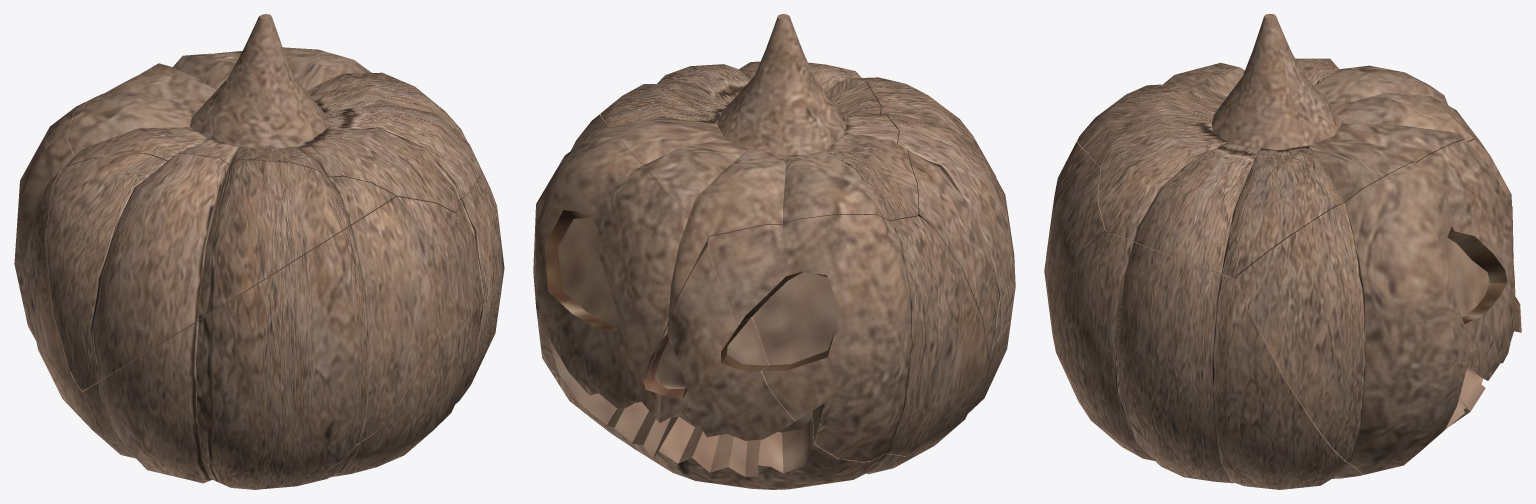
Rendered from Stone_Pumpkin_Drop.fbx.
The picture shows the model from 3 angles, left to right: view 1: azimuth 30°, elevation 25°; view 2: azimuth 150°, elevation 25°; view 3: azimuth 270°, elevation 25°; orthographic projection.
Parts seen in each view (by area): view 1: Stone_Pumpkin_2_cell, Stone_Pumpkin_2_cell.006, Stone_Pumpkin_2_cell.003, Stone_Pumpkin_2_cell.005, Stone_Pumpkin_2_cell.004; view 2: Stone_Pumpkin_2_cell.004, Stone_Pumpkin_2_cell.003, Stone_Pumpkin_2_cell.001, Stone_Pumpkin_2_cell.002, Stone_Pumpkin_2_cell.006, Stone_Pumpkin_2_cell; view 3: Stone_Pumpkin_2_cell.001, Stone_Pumpkin_2_cell.003, Stone_Pumpkin_2_cell.005, Stone_Pumpkin_2_cell, Stone_Pumpkin_2_cell.006, Stone_Pumpkin_2_cell.002.
Boxes of the visible parts, x1,y1,x2,y2 form: Stone_Pumpkin_2_cell: [83, 196, 458, 489]; Stone_Pumpkin_2_cell.006: [45, 153, 395, 390]; Stone_Pumpkin_2_cell.003: [64, 14, 481, 227]; Stone_Pumpkin_2_cell.005: [212, 163, 504, 489]; Stone_Pumpkin_2_cell.004: [14, 101, 116, 445]; Stone_Pumpkin_2_cell.004: [707, 214, 988, 461]; Stone_Pumpkin_2_cell.003: [600, 14, 918, 236]; Stone_Pumpkin_2_cell.001: [533, 114, 709, 450]; Stone_Pumpkin_2_cell.002: [633, 243, 944, 489]; Stone_Pumpkin_2_cell.006: [835, 66, 1015, 367]; Stone_Pumpkin_2_cell: [968, 236, 1014, 413]; Stone_Pumpkin_2_cell.001: [1235, 139, 1516, 474]; Stone_Pumpkin_2_cell.003: [1098, 14, 1476, 278]; Stone_Pumpkin_2_cell.005: [1053, 231, 1364, 489]; Stone_Pumpkin_2_cell: [1044, 141, 1112, 342]; Stone_Pumpkin_2_cell.006: [1077, 58, 1306, 166]; Stone_Pumpkin_2_cell.002: [1450, 147, 1521, 425].
Bounding box in the file's own units: 105 × 100 × 103.
